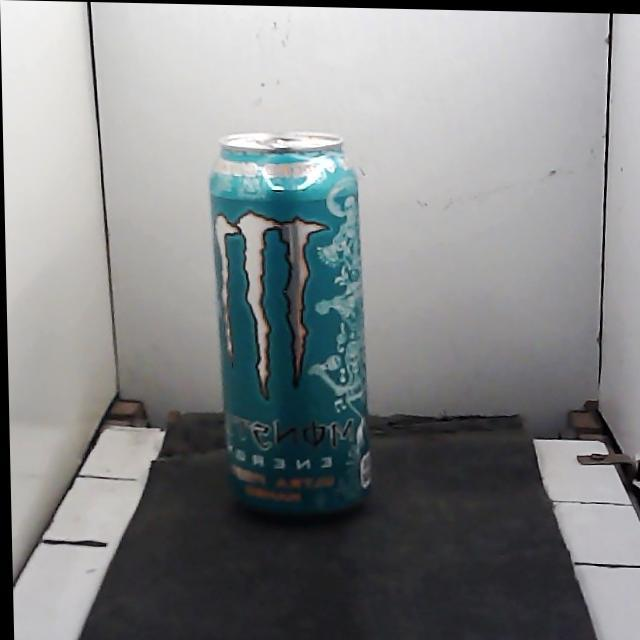metal: (210, 132, 371, 515)
